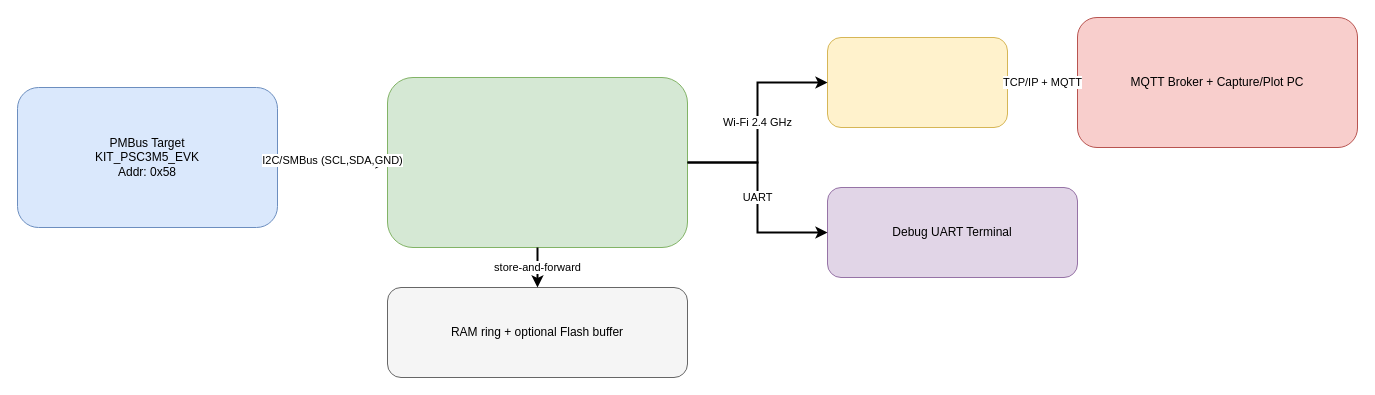
Image size: 1375x395. Some labels were removed from this diagram. The centre of each missing label's shape, as x and y in pixels:
"Gateway MCU CY8CKIT-062S2-43012 PSoC6 + CYW43012" goes at point 537,162.
"Wi-Fi AP / LAN" goes at point 917,82.
